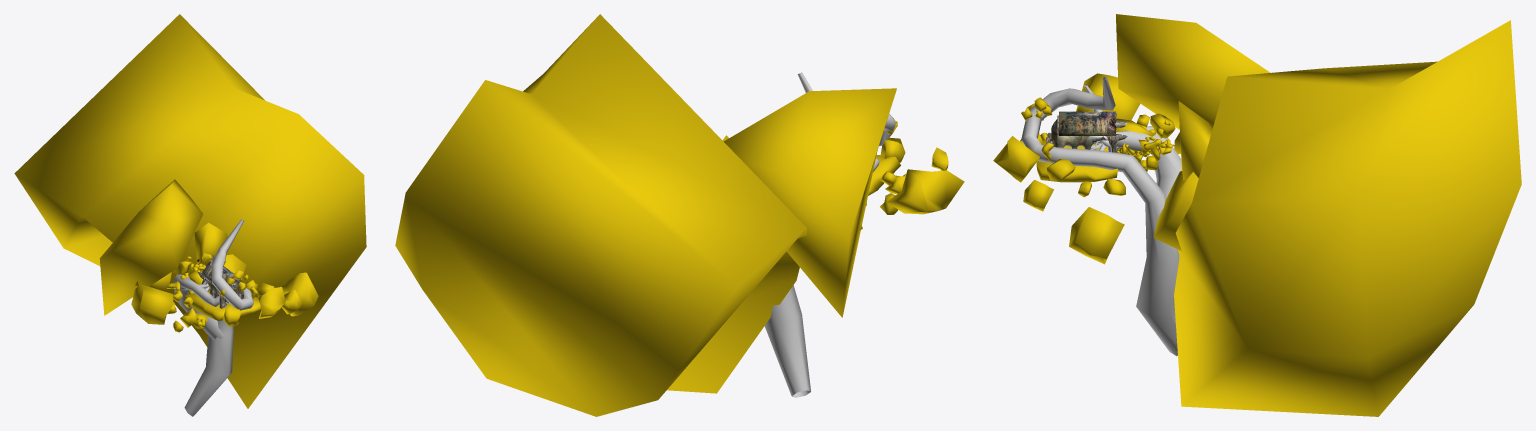
3 renders of one model, left to right at view 1: azimuth 30°, elevation 25°; view 2: azimuth 150°, elevation 25°; view 3: azimuth 270°, elevation 25°, orthographic. The views are drawn at different scales.
Visible parts, largest first — view 1: Fragment.009, fragment.074, treeOfYoreChurch, Fragment.043, fragment.073, Fragment.047, floor.001, Fragment.034, Fragment.048; view 2: Fragment.009, fragment.074, treeOfYoreChurch, Fragment.043, floor.001; view 3: Fragment.009, fragment.074, treeOfYoreChurch, Fragment.047, fragment.073, Fragment.046, roof, Fragment.043, Fragment.034, floor.001, pillars, Fragment.048.
Boxes of the visible parts, x1,y1,x2,y2 form: Fragment.009: (14, 14, 366, 408); fragment.074: (99, 179, 203, 315); treeOfYoreChurch: (174, 219, 253, 416); Fragment.043: (131, 284, 173, 324); fragment.073: (194, 222, 227, 265); Fragment.047: (280, 272, 318, 316); floor.001: (185, 290, 261, 320); Fragment.034: (258, 287, 285, 318); Fragment.048: (282, 290, 301, 314); Fragment.009: (395, 14, 806, 416); fragment.074: (723, 88, 896, 317); treeOfYoreChurch: (764, 72, 897, 397); Fragment.043: (886, 169, 964, 214); floor.001: (868, 155, 900, 195); Fragment.009: (1174, 20, 1521, 416); fragment.074: (1116, 14, 1270, 129); treeOfYoreChurch: (1021, 77, 1181, 356); Fragment.047: (1069, 207, 1124, 264); fragment.073: (1178, 101, 1212, 180); Fragment.046: (1153, 171, 1198, 250); roof: (1058, 111, 1116, 135); Fragment.043: (1076, 73, 1140, 120); Fragment.034: (993, 136, 1039, 182); floor.001: (1036, 140, 1117, 182); pillars: (1058, 120, 1127, 152); Fragment.048: (1023, 180, 1053, 211).
Size of the model in its own units: 11435 by 10619 by 12112.
